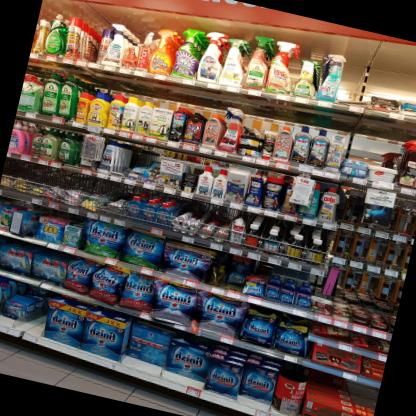empty_space: (336, 48, 378, 108), (12, 283, 52, 337), (109, 138, 134, 177)
